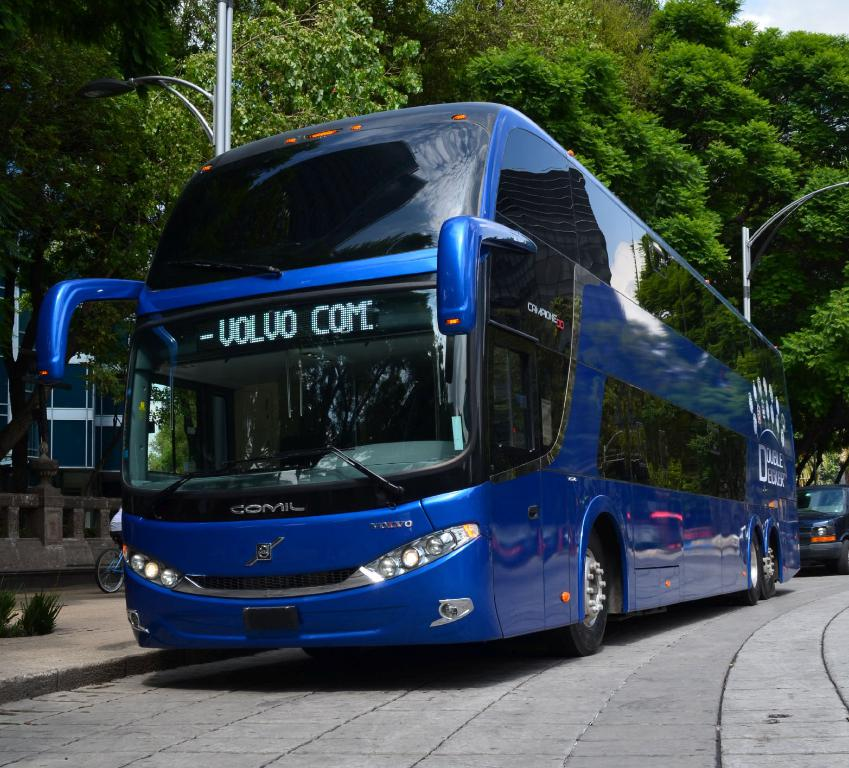Bus: (40, 99, 793, 657)
